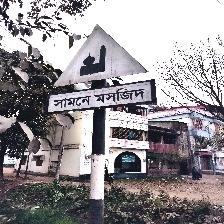Mosque in front: (49, 24, 153, 115)
